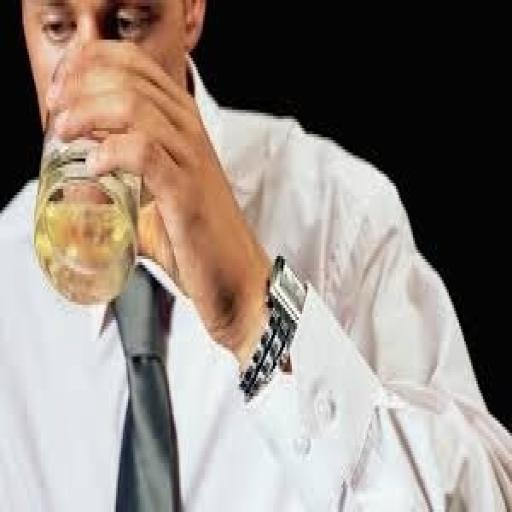drinking: (32, 0, 227, 305)
